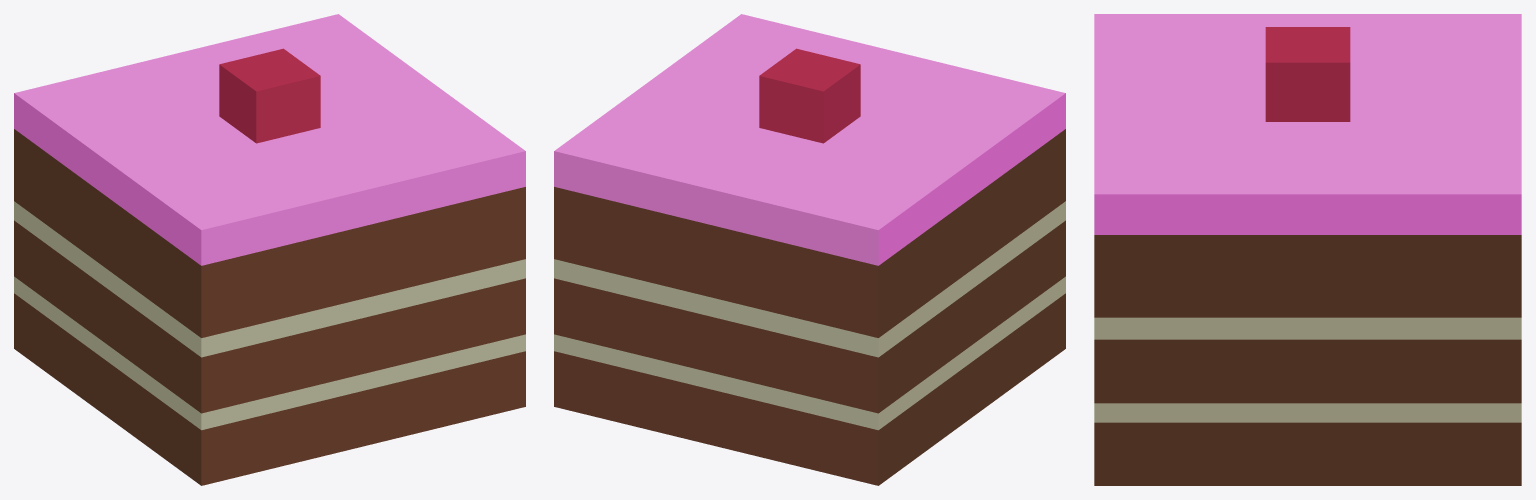
The model's file is Cake2.glb.
The picture shows the model from 3 angles, left to right: view 1: azimuth 30°, elevation 25°; view 2: azimuth 150°, elevation 25°; view 3: azimuth 270°, elevation 25°; orthographic projection. The views are drawn at different scales.
Parts seen in each view (by area): view 1: SI_Food_Bakery_Cake_02; view 2: SI_Food_Bakery_Cake_02; view 3: SI_Food_Bakery_Cake_02.
Boxes of the visible parts, left/top/right/bottom form: SI_Food_Bakery_Cake_02: left=14, top=14, right=525, bottom=485; SI_Food_Bakery_Cake_02: left=554, top=14, right=1065, bottom=485; SI_Food_Bakery_Cake_02: left=1094, top=14, right=1521, bottom=485.
Bounding box in the file's own units: 0.00408 × 0.0037 × 0.00408.
Materials: 1 (1 with a texture image).
